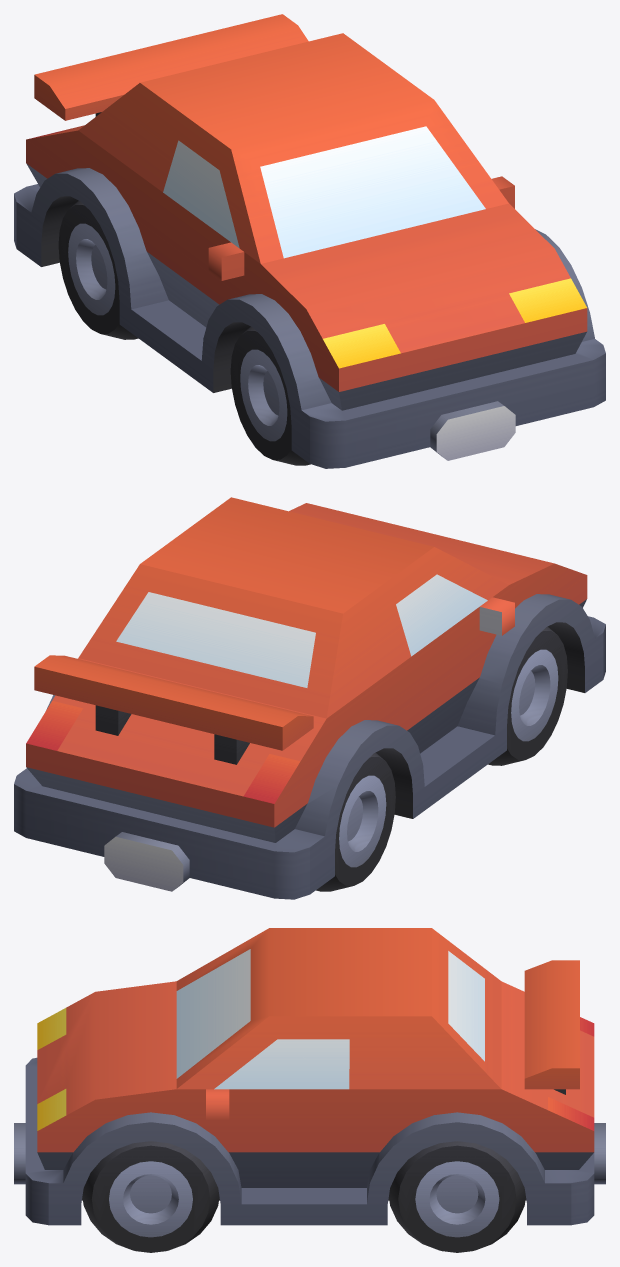
3 views of the same model, one above another, from view 1: azimuth 30°, elevation 25°; view 2: azimuth 150°, elevation 25°; view 3: azimuth 270°, elevation 25° (orthographic). The views are drawn at different scales.
Parts seen in each view (by area): view 1: body, spoiler, wheel-back-right, wheel-front-right; view 2: body, spoiler, wheel-back-right, wheel-front-right; view 3: body, wheel-back-left, wheel-front-left, spoiler.
Boxes of the visible parts, left/top/right/bottom form: body: left=14, top=33, right=605, bottom=468; spoiler: left=34, top=14, right=308, bottom=120; wheel-back-right: left=58, top=200, right=138, bottom=339; wheel-front-right: left=230, top=326, right=310, bottom=465; body: left=14, top=497, right=605, bottom=899; spoiler: left=34, top=655, right=313, bottom=764; wheel-back-right: left=316, top=752, right=395, bottom=891; wheel-front-right: left=488, top=626, right=567, bottom=765; body: left=14, top=928, right=605, bottom=1225; wheel-back-left: left=389, top=1141, right=525, bottom=1252; wheel-front-left: left=82, top=1141, right=219, bottom=1252; spoiler: left=524, top=960, right=579, bottom=1094.
Bounding box in the file's own units: 1.3 × 1.1 × 2.55.
1 material, 1 textured.
